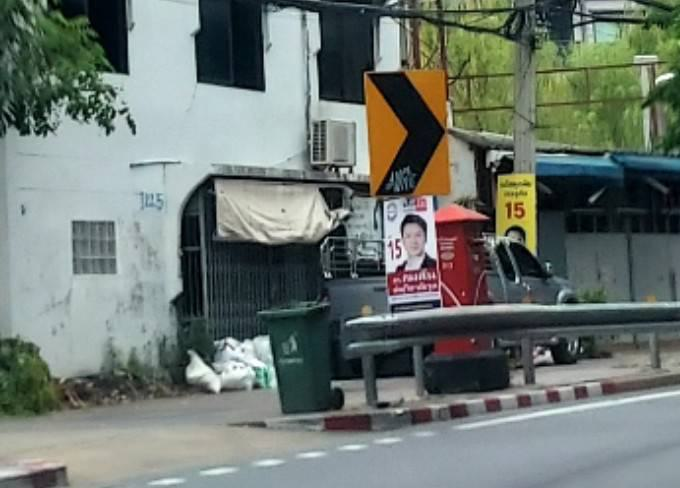Banner: (381, 197, 444, 302)
